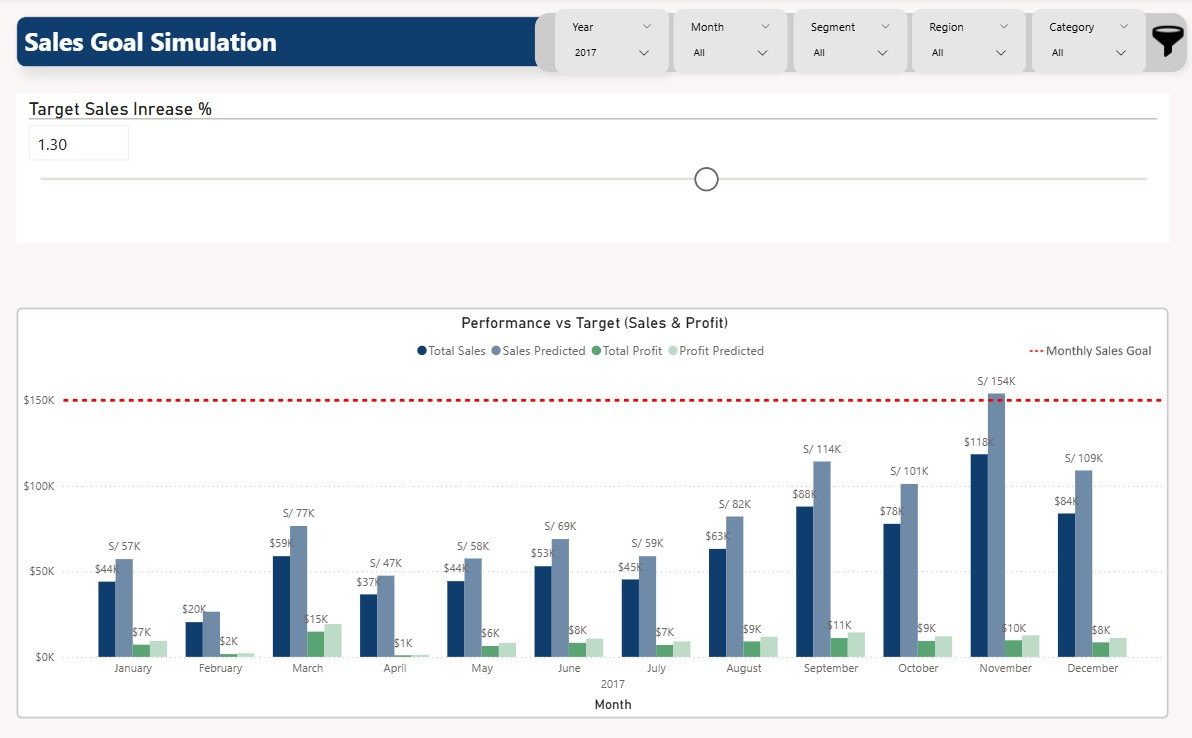

Layout of this report page (visuals, bound fields, positions):
{"tool":"powerbi","page":{"name":"Simulation","canvas":[1280,820],"ordinal":5},"visuals":[{"type":"textbox","box":[17.5,21.5,691.2,53.8],"z":0},{"type":"shape","box":[564.1,7.2,715.9,81.2],"z":1000},{"type":"slicer","fields":{"Values":["dim_Calendar.Year"]},"box":[593.7,13.1,122,69.4],"z":2000},{"type":"slicer","fields":{"Values":["dim_Calendar.Month"]},"box":[721.4,13.1,122,69.4],"z":3000},{"type":"slicer","fields":{"Values":["dim_Segments.Segment"]},"box":[849.1,13.1,122,69.4],"z":4000},{"type":"slicer","fields":{"Values":["dim_Regions.Region"]},"box":[976.8,13.1,122,69.4],"z":5000},{"type":"image","box":[1229,15.9,43.5,62.3],"z":6000},{"type":"slicer","fields":{"Values":["dim_Categories.Category"]},"box":[1104.6,13.1,122,69.4],"z":7000},{"type":"clusteredColumnChart","title":"Performance vs Target (Sales & Profit)","fields":{"Category":["dim_Calendar.Date.Variation.Date Hierarchy.Year","dim_Calendar.Date.Variation.Date Hierarchy.Month"],"Y":["0  DAX Measures.Total Sales","Pct Sales Scenario.Wif_SalesPredicted","0  DAX Measures.Total Profit","Pct Sales Scenario.Wif_ProfitPredicted"]},"box":[17.8,332.3,1233.6,439.7],"z":8000},{"type":"slicer","fields":{"Values":["Pct Sales Scenario.Pct Sales Scenario"]},"box":[17.8,103.2,1233.6,160.2],"z":9000},{"type":"image","box":[1093,364.9,147.7,28.5],"z":10000}]}

Visuals, with their boxes on the page's 1280x820 design canvas (x1, y1, x2, y2). These are canvas units, not pixel positions in the 1192x738 screenshot, which may show the page scaled, cropped or inside an application window:
textbox: (left=18, top=22, right=709, bottom=75)
shape: (left=564, top=7, right=1280, bottom=88)
slicer - dim_Calendar.Year: (left=594, top=13, right=716, bottom=82)
slicer - dim_Calendar.Month: (left=721, top=13, right=843, bottom=82)
slicer - dim_Segments.Segment: (left=849, top=13, right=971, bottom=82)
slicer - dim_Regions.Region: (left=977, top=13, right=1099, bottom=82)
image: (left=1229, top=16, right=1272, bottom=78)
slicer - dim_Categories.Category: (left=1105, top=13, right=1227, bottom=82)
"Performance vs Target (Sales & Profit)" clusteredColumnChart: (left=18, top=332, right=1251, bottom=772)
slicer - Pct Sales Scenario.Pct Sales Scenario: (left=18, top=103, right=1251, bottom=263)
image: (left=1093, top=365, right=1241, bottom=393)
